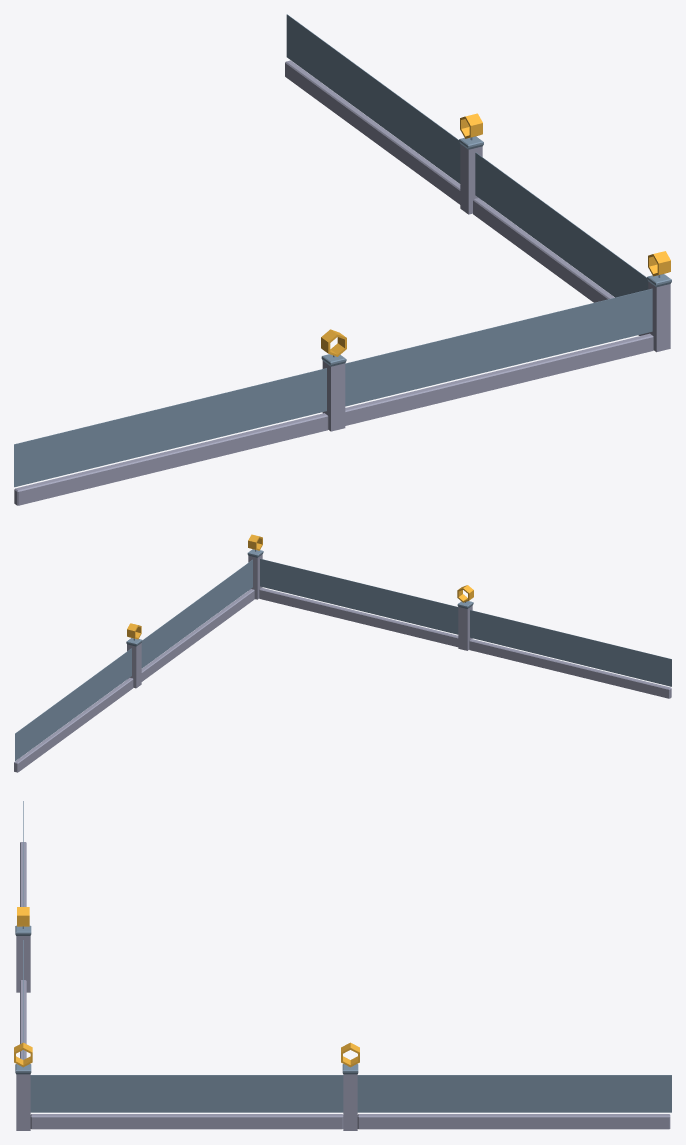
File: fence_monolith_corner.fbx
The picture shows the model from 3 angles, top to bottom: view 1: azimuth 30°, elevation 25°; view 2: azimuth 150°, elevation 25°; view 3: azimuth 270°, elevation 25°; orthographic projection. The views are drawn at different scales.
Parts seen in each view (by area): view 1: fence_monolith_corner; view 2: fence_monolith_corner; view 3: fence_monolith_corner.
Boxes of the visible parts, bbox=[...] form: fence_monolith_corner: bbox=[14, 14, 671, 505]; fence_monolith_corner: bbox=[14, 534, 671, 772]; fence_monolith_corner: bbox=[14, 801, 671, 1130].
Bounding box in the file's own units: 1081 × 150 × 1084.
